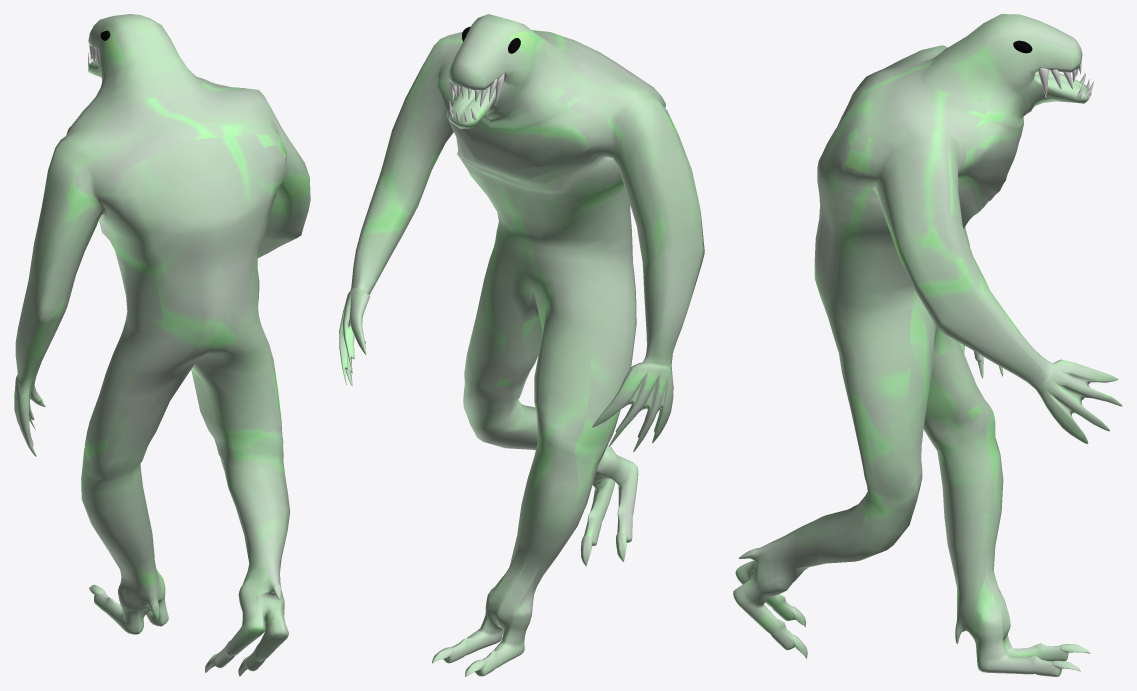
Rendered from Berserkerandar.0075.obj.
3 renders of one model, left to right at view 1: azimuth 30°, elevation 25°; view 2: azimuth 150°, elevation 25°; view 3: azimuth 270°, elevation 25°, orthographic. The views are drawn at different scales.
Parts seen in each view (by area): view 1: polySurface27; view 2: polySurface27; view 3: polySurface27.
Part boxes in pixels (bbox=[...]): polySurface27: bbox=[14, 14, 310, 676]; polySurface27: bbox=[339, 14, 704, 676]; polySurface27: bbox=[733, 14, 1122, 676].
Size of the model in its own units: 11.48 by 23.63 by 12.83.
Materials: 1 (1 with a texture image).
